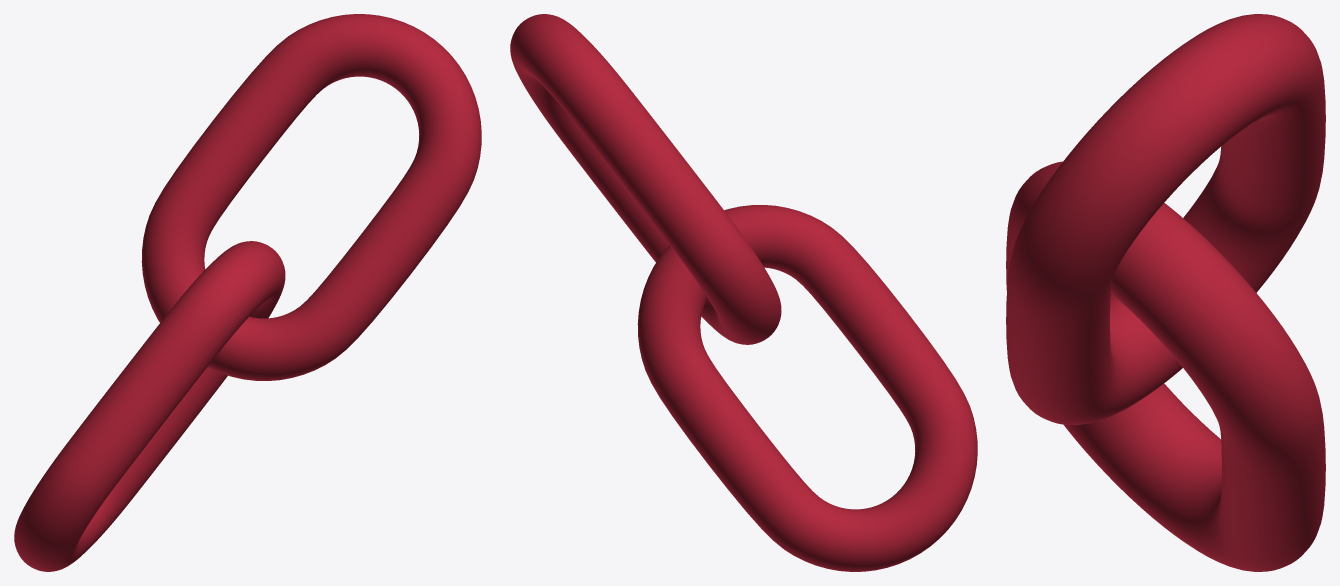
The model's file is life.glb.
3 views of the same model, side by side, from view 1: azimuth 30°, elevation 25°; view 2: azimuth 150°, elevation 25°; view 3: azimuth 270°, elevation 25° (orthographic). The views are drawn at different scales.
Parts seen in each view (by area): view 1: chain; view 2: chain; view 3: chain.
Boxes of the visible parts, box(x1,y1,x2,y2) form: chain: box(14, 14, 481, 571); chain: box(510, 14, 977, 571); chain: box(1006, 14, 1325, 571).
Size of the model in its own units: 1.74 by 1.74 by 0.6631.
